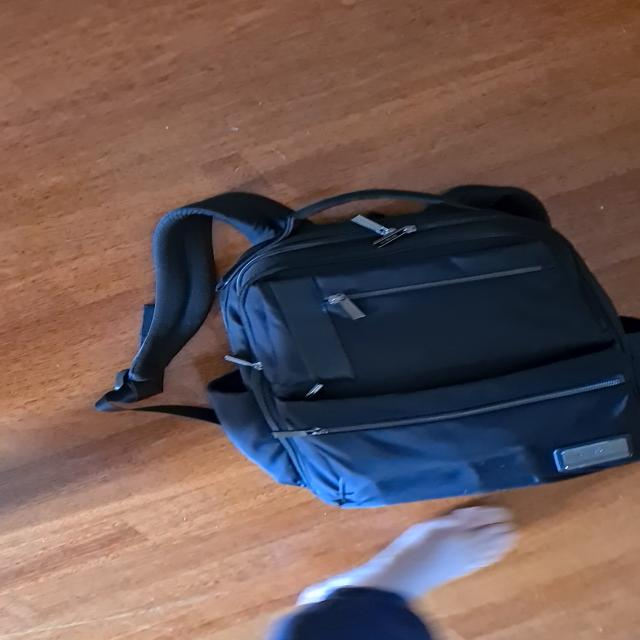backpack: (151, 179, 640, 514)
